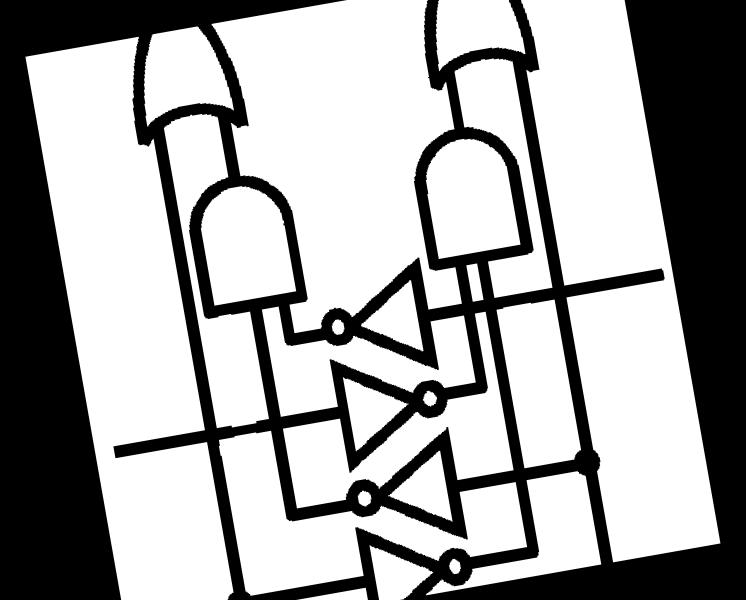and: (400, 110, 540, 277), (176, 161, 314, 328)
not: (321, 332, 462, 479), (334, 418, 474, 562), (308, 252, 442, 392), (345, 506, 482, 600)
or: (111, 19, 257, 154), (404, 0, 546, 100)
